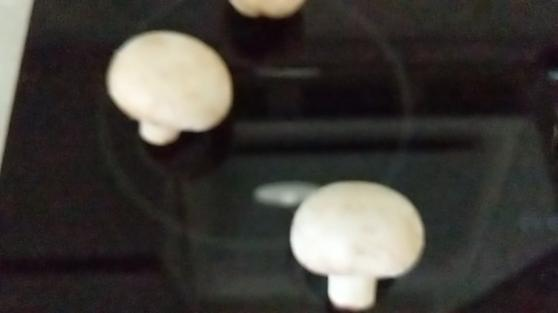champignon: (290, 177, 424, 306), (109, 32, 239, 144)
